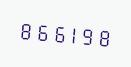eight: (17, 15, 32, 44), (98, 22, 113, 51)
nine: (82, 21, 97, 49)
one: (66, 20, 81, 48)
six: (33, 17, 48, 45), (50, 18, 65, 46)
